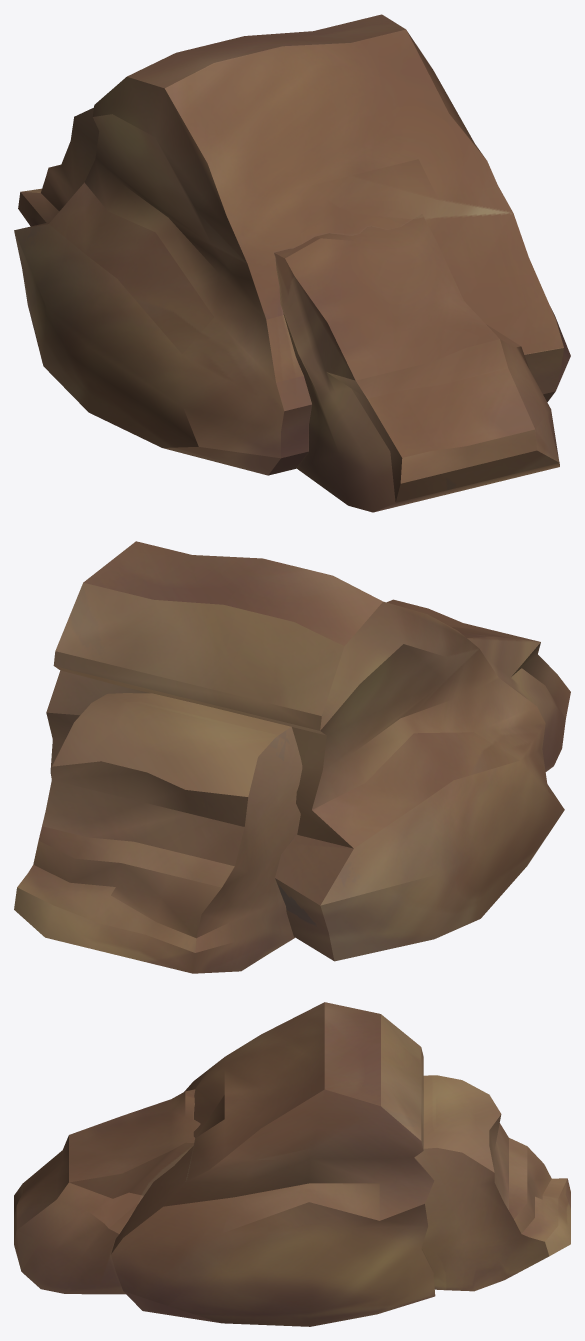
Rendered from batu2.fbx.
3 views of the same model, one above another, from view 1: azimuth 30°, elevation 25°; view 2: azimuth 150°, elevation 25°; view 3: azimuth 270°, elevation 25° (orthographic). The views are drawn at different scales.
Visible parts, largest first — view 1: batu1; view 2: batu1; view 3: batu1.
Boxes of the visible parts, left/top/right/bottom form: batu1: left=14, top=14, right=570, bottom=512; batu1: left=14, top=541, right=570, bottom=973; batu1: left=14, top=1002, right=570, bottom=1326.
Size of the model in its own units: 249 by 191 by 420.
